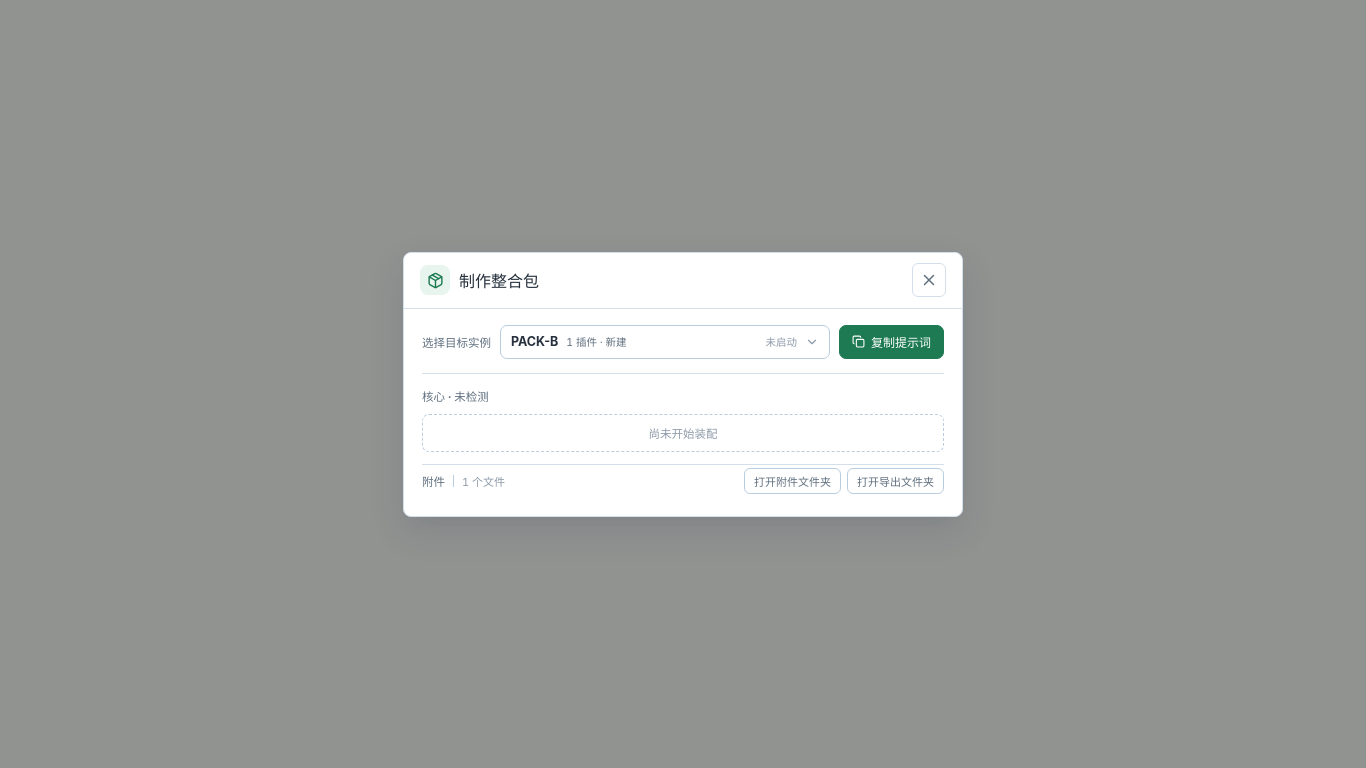
Test: 制作整合包弹窗 › 行内入口预选该行实例；菜单里有「当前对话所在实例 / 通用对话」并打勾
This screenshot has width=1366, height=768.
Expected: the text with class "build-select-name" reads "PACK-B", left=511, top=334, right=558, bottom=349
Click the button with class "build-select-box" at point(535, 342), box left=500, top=324, right=830, bottom=358
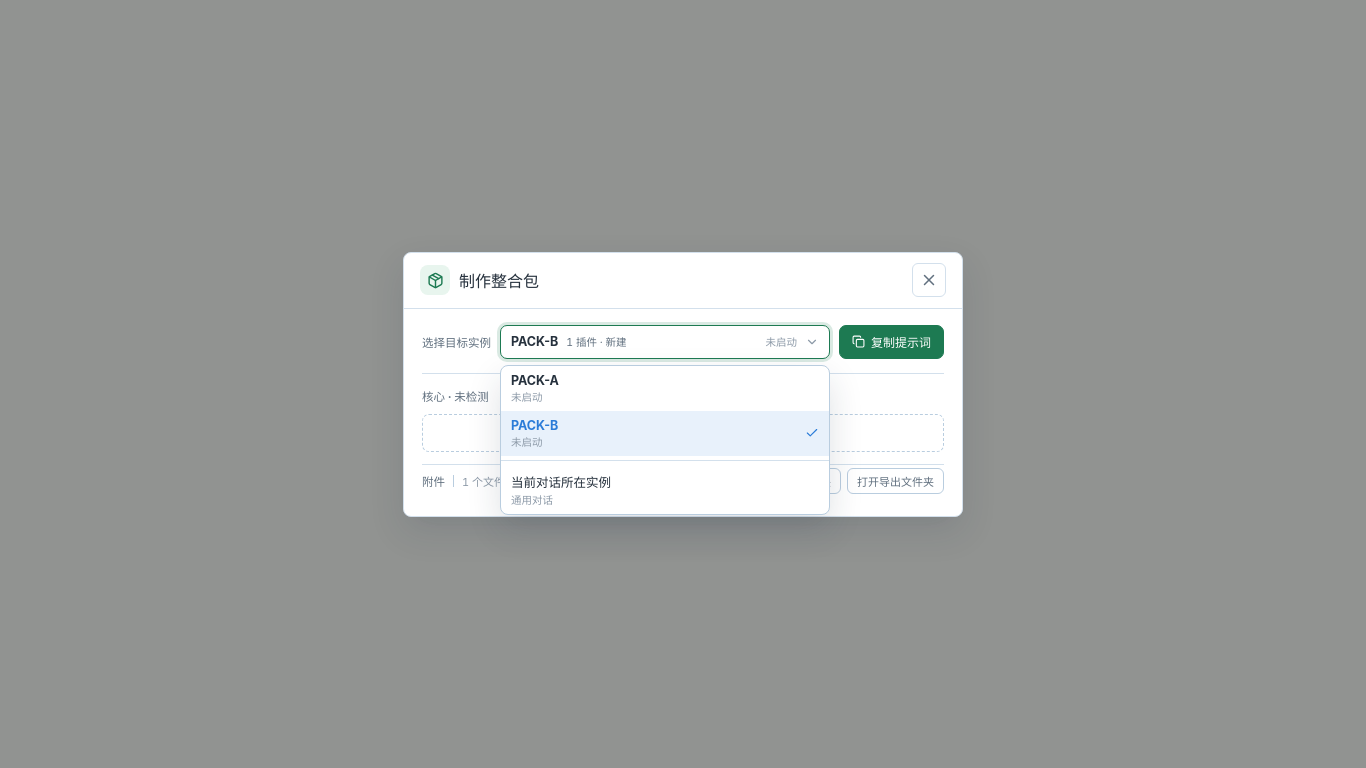
Expected: the option with class "build-menu-row" reads "当前对话所在实例 通用对话", left=501, top=464, right=829, bottom=514
Expected: the option with class "build-menu-row" shows "PACK-B", left=501, top=410, right=829, bottom=456
Expected: the icon with class "build-menu-check" is shown, left=805, top=426, right=819, bottom=440
